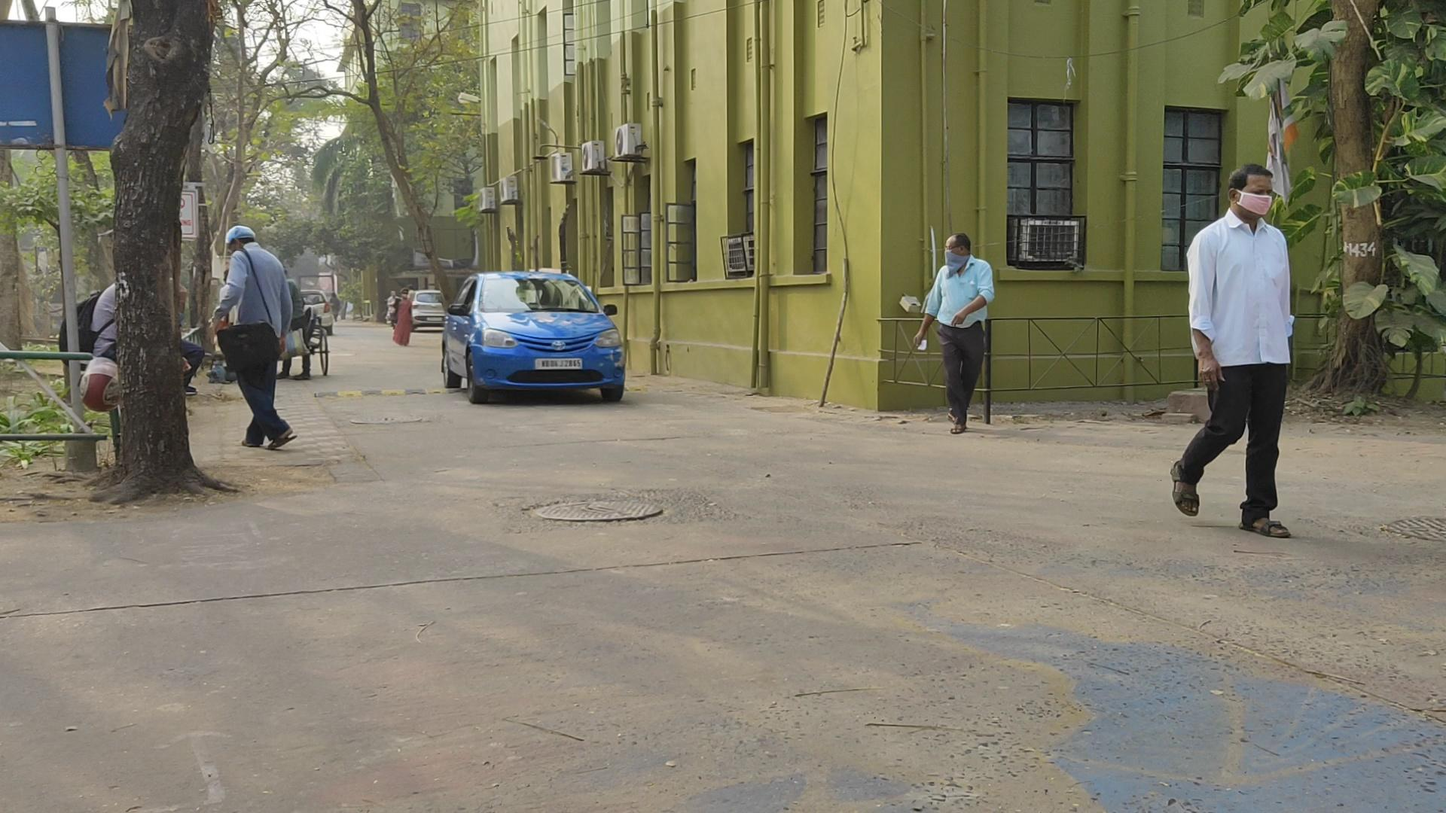car: (441, 269, 627, 405), (406, 288, 447, 333)
